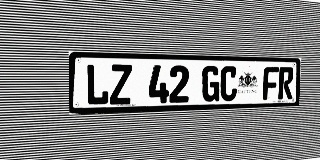2: (169, 65, 189, 103)
4: (149, 65, 169, 104)
C: (220, 66, 238, 101)
F: (263, 67, 279, 100)
G: (202, 66, 220, 102)
L: (86, 64, 109, 106)
R: (278, 67, 294, 99)
Z: (110, 64, 132, 105)
